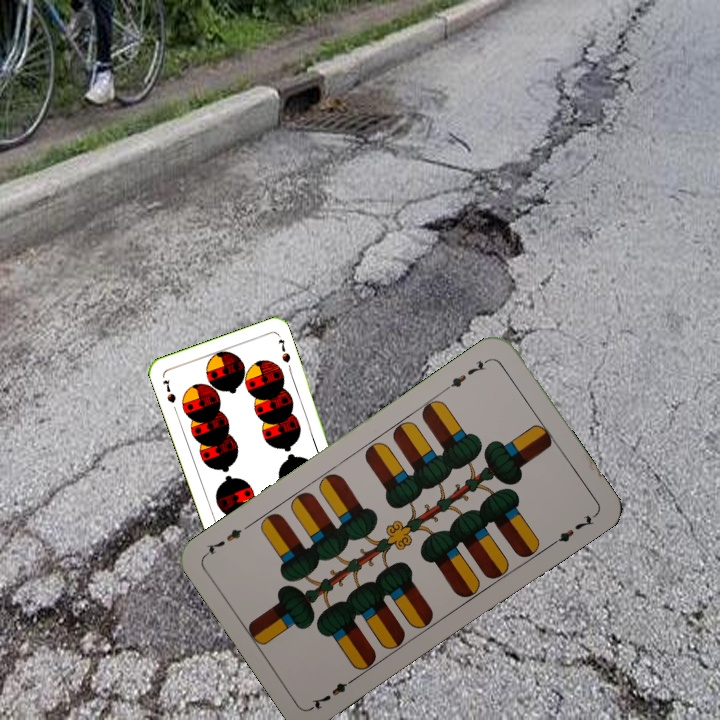E7: (307, 673, 359, 713), (441, 354, 493, 393)
S7: (159, 375, 178, 406)
